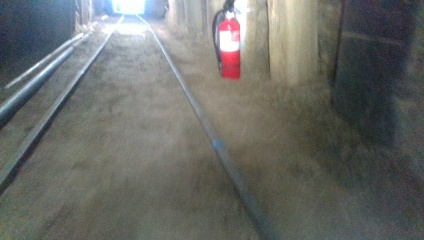fire_extinguisher: (210, 0, 241, 78)
